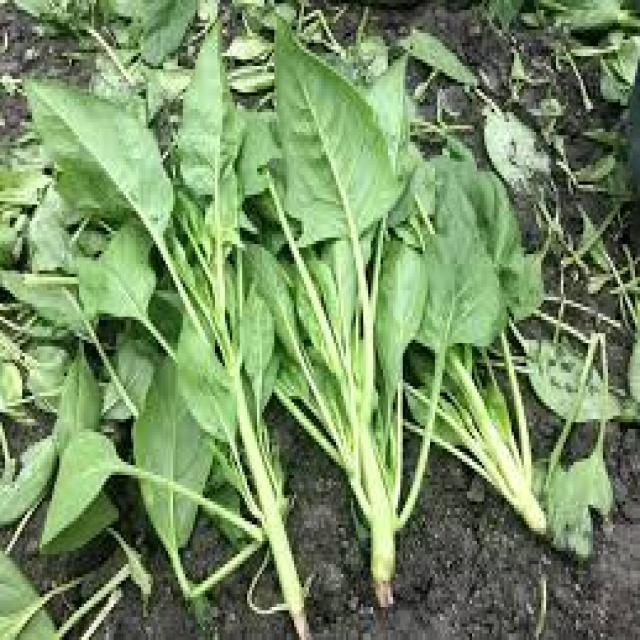spinach: (20, 345, 281, 591), (262, 14, 426, 303), (16, 58, 213, 278), (394, 117, 540, 363)
